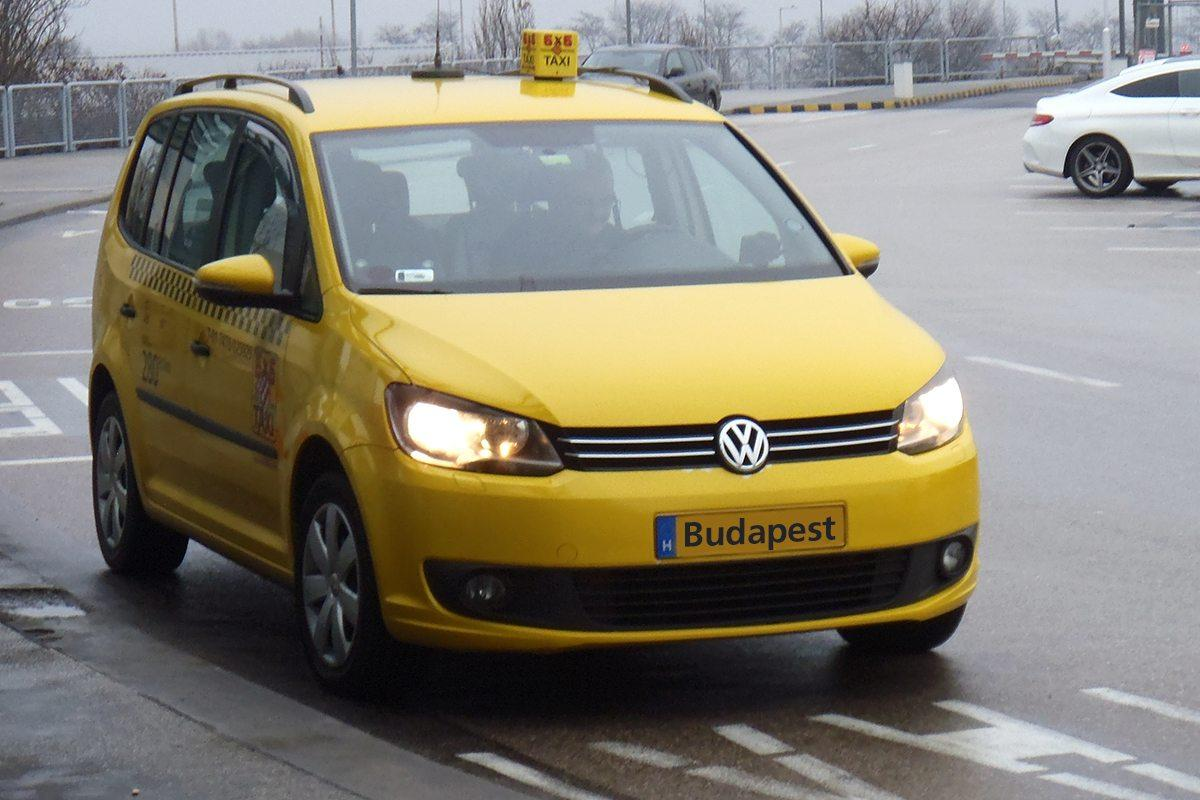taxi: (78, 51, 1008, 700)
